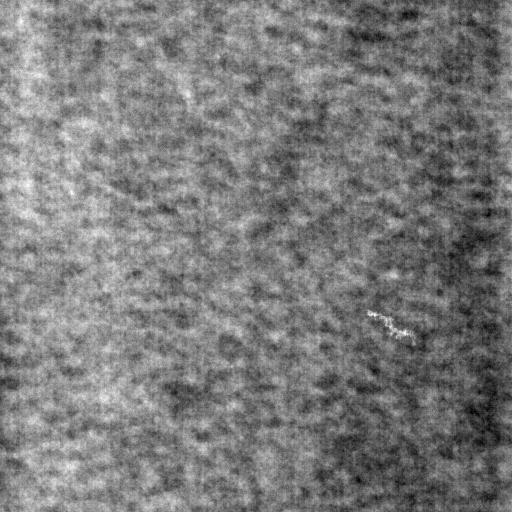DefectTypeA: (366, 307, 423, 345)
